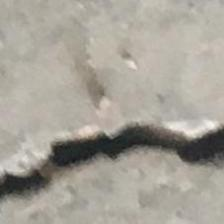Crack: (0, 100, 224, 220)
